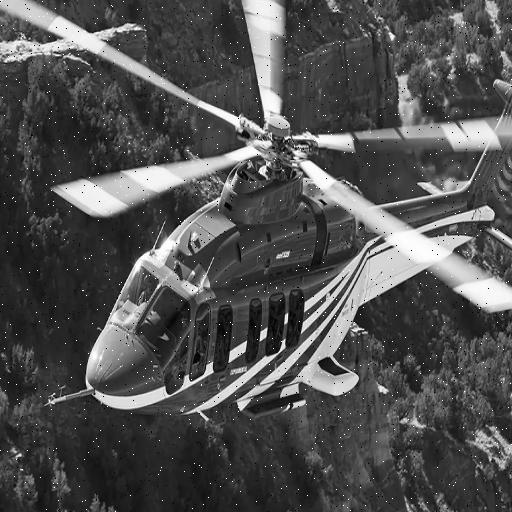helicopter: (46, 1, 512, 446)
